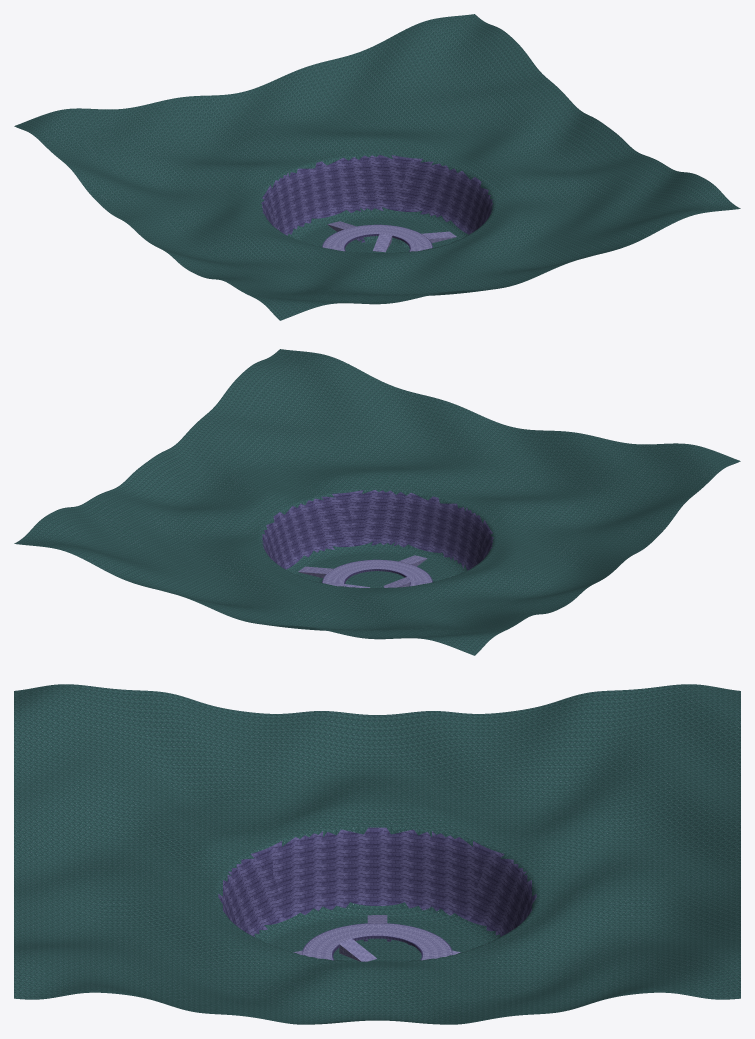
The picture shows the model from 3 angles, top to bottom: view 1: azimuth 30°, elevation 25°; view 2: azimuth 150°, elevation 25°; view 3: azimuth 270°, elevation 25°; orthographic projection. The views are drawn at different scales.
Parts seen in each view (by area): view 1: Star Fall, Road 01 floor, Road 02 floor; view 2: Star Fall, Road 04 floor, Road 03 floor; view 3: Star Fall, Road 02 floor, Road 03 floor.
Boxes of the visible parts, bbox=[...] form: Star Fall: bbox=[14, 14, 740, 320]; Road 01 floor: bbox=[349, 224, 424, 242]; Road 02 floor: bbox=[322, 228, 361, 251]; Star Fall: bbox=[14, 349, 740, 655]; Road 04 floor: bbox=[330, 559, 405, 577]; Road 03 floor: bbox=[393, 563, 432, 586]; Star Fall: bbox=[14, 684, 740, 1024]; Road 02 floor: bbox=[376, 923, 452, 955]; Road 03 floor: bbox=[302, 923, 378, 955].
Size of the model in its own units: 400 by 78.57 by 400.
3 materials, 3 textured.
